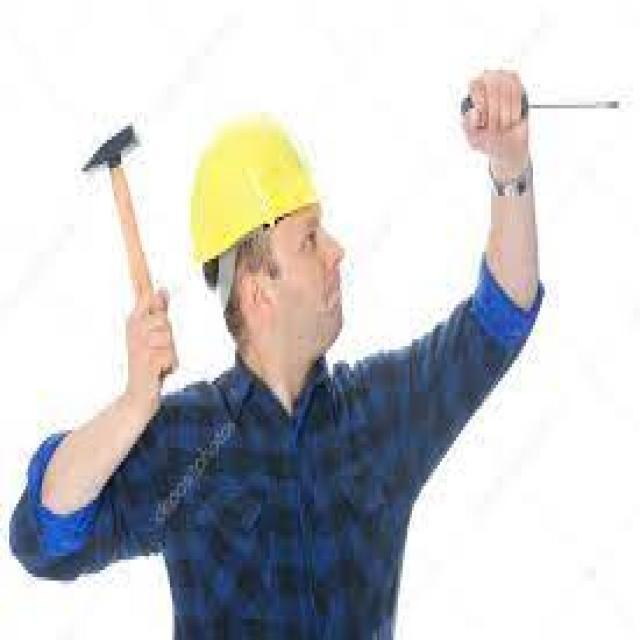screwdriver: (442, 74, 624, 130)
